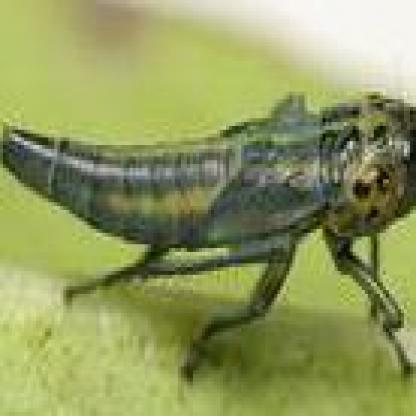Green-Leafhopper: (0, 86, 416, 398)
